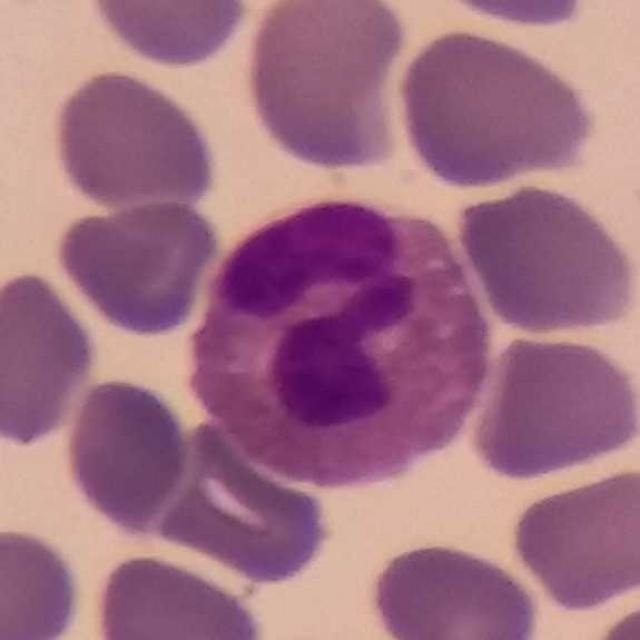Eosinophil: (180, 190, 496, 474)
RBC: (393, 24, 599, 192), (199, 188, 422, 340), (148, 423, 336, 588), (238, 0, 412, 176), (454, 178, 640, 338), (464, 328, 640, 484), (48, 64, 221, 216), (51, 193, 224, 339), (60, 373, 195, 534), (506, 462, 640, 612), (365, 535, 543, 640), (0, 265, 101, 447), (88, 550, 272, 640), (82, 0, 255, 71), (0, 522, 86, 640), (418, 0, 604, 31), (582, 589, 640, 640)
